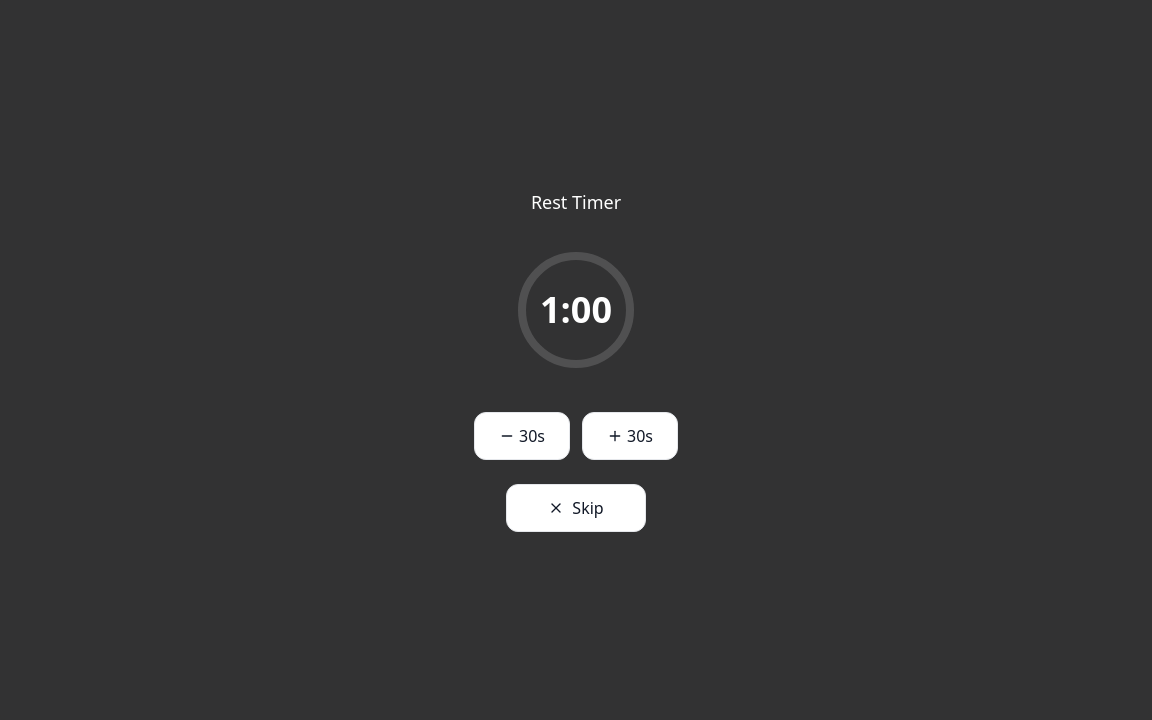
it: RestTimer › adds 30 seconds to the remaining time
Click the button named "add 30 seconds".
click(630, 436)  # box [582,412,678,460]
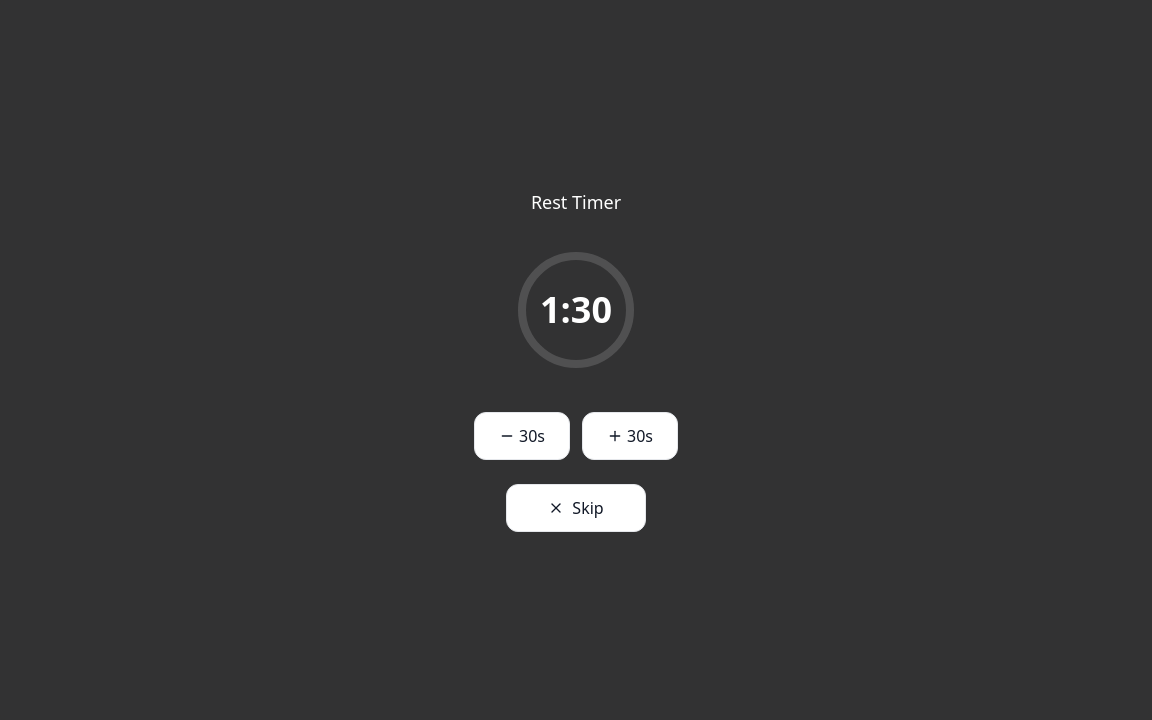
Now the text "1:30" is shown, box [540,290,612,330]
